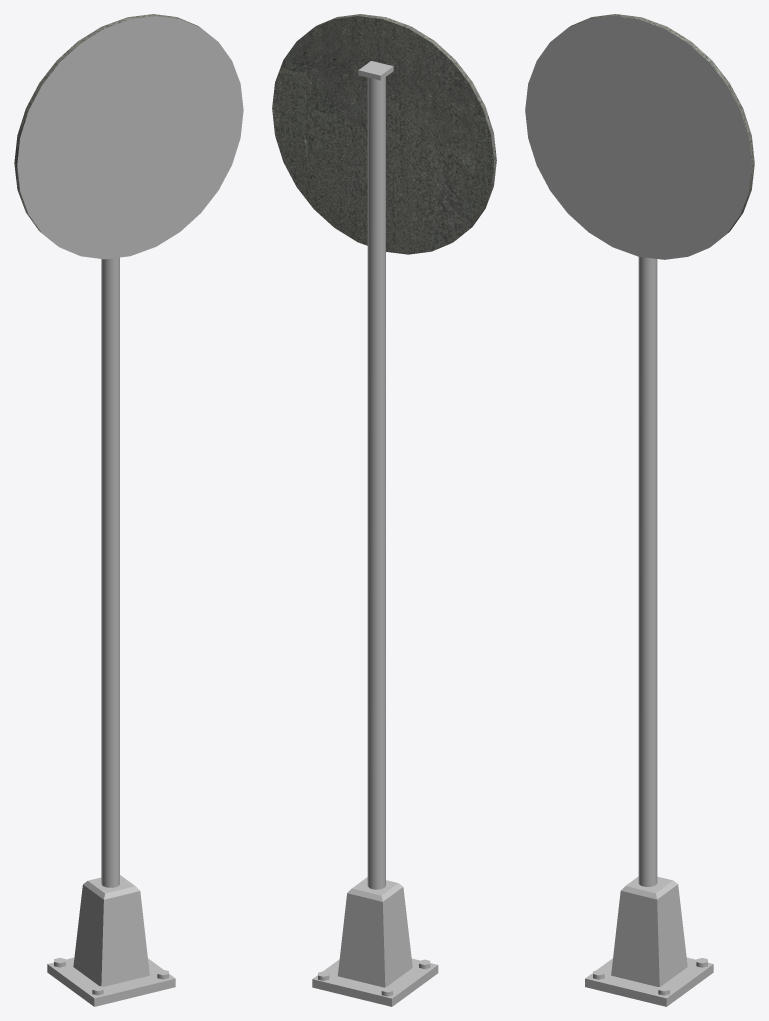
Rendered from DT_Sign_post_type0101.fbx.
3 views of the same model, side by side, from view 1: azimuth 30°, elevation 25°; view 2: azimuth 150°, elevation 25°; view 3: azimuth 330°, elevation 25° (orthographic). The views are drawn at different scales.
Visible parts, largest first — view 1: DT_Sign_post_type0101; view 2: DT_Sign_post_type0101; view 3: DT_Sign_post_type0101.
Part boxes in pixels (bbox=[...]): DT_Sign_post_type0101: bbox=[14, 14, 243, 1006]; DT_Sign_post_type0101: bbox=[272, 14, 496, 1006]; DT_Sign_post_type0101: bbox=[525, 14, 754, 1006].
Bounding box in the file's own units: 67.07 × 275 × 24.11.
